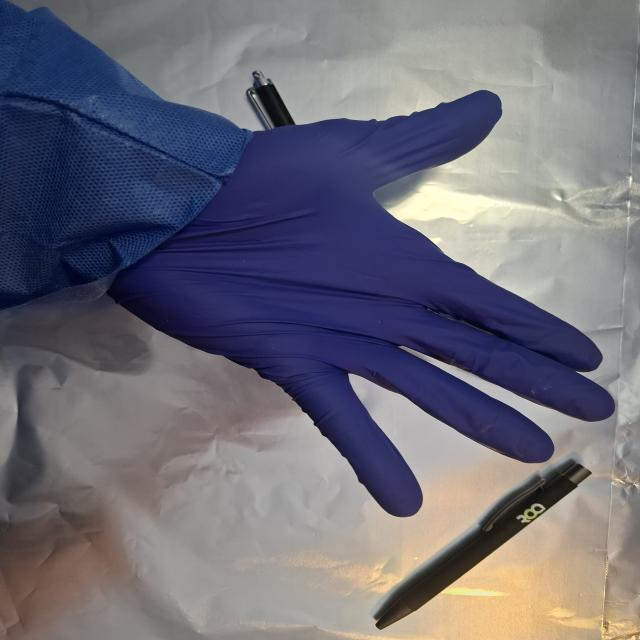glove_on: (105, 87, 618, 519)
